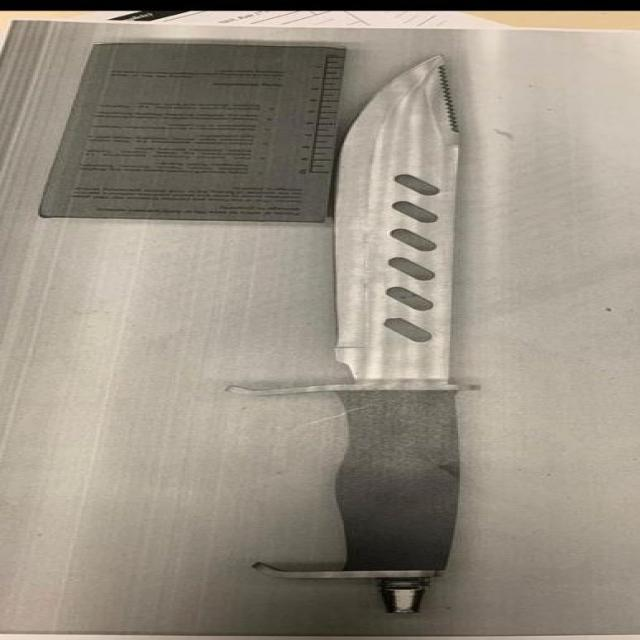Sharp-Object: (279, 53, 462, 620)
